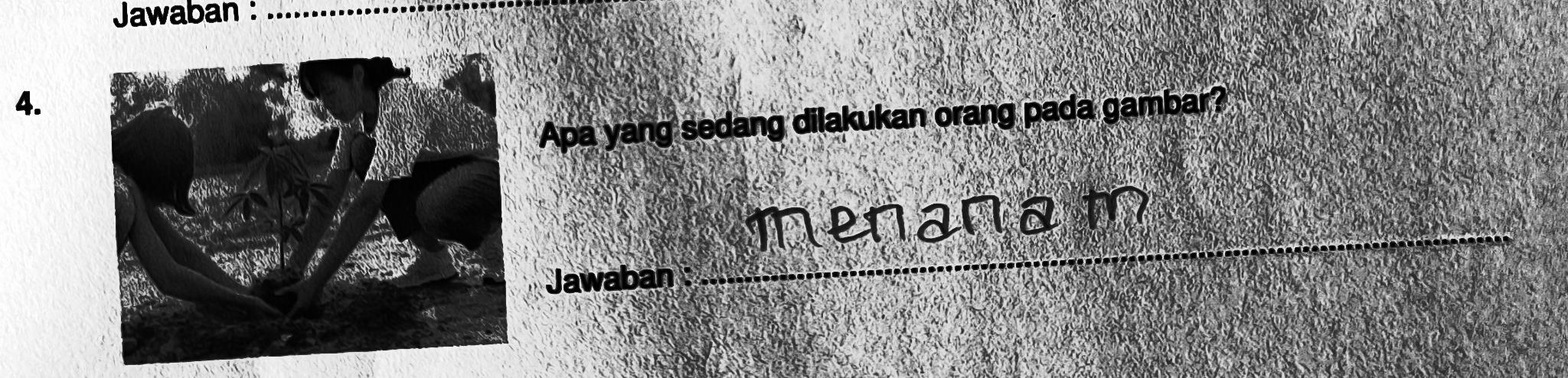jawaban: (737, 173, 1155, 261)
